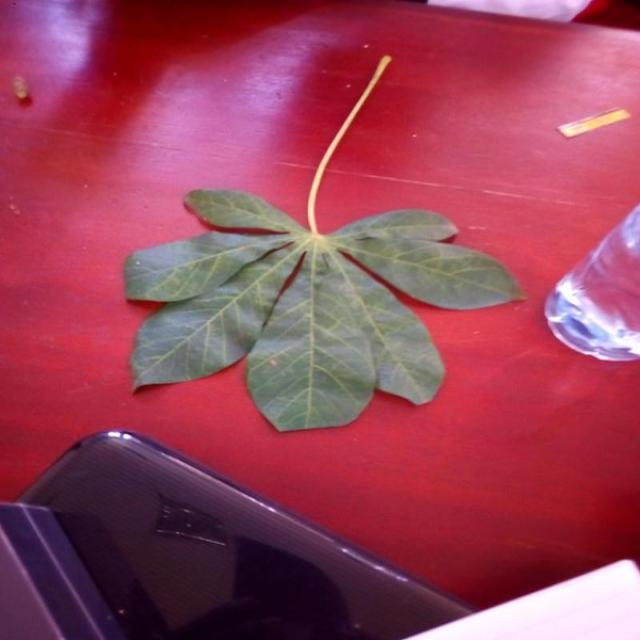cassava leaf: (123, 53, 526, 432)
